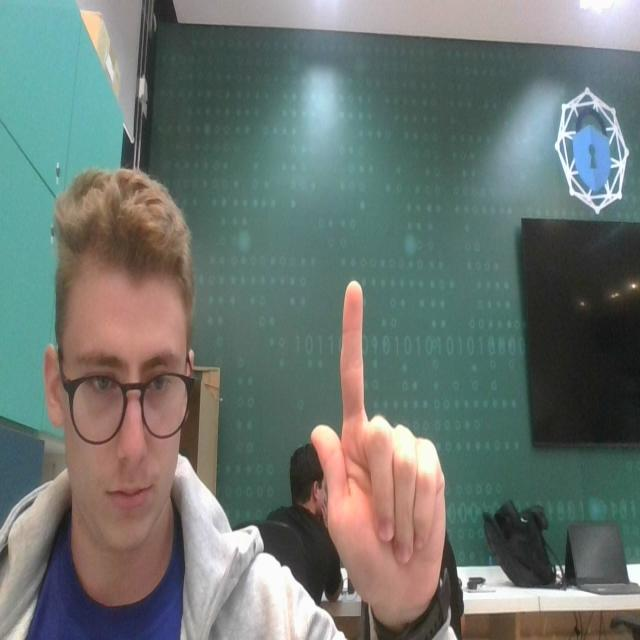G: (305, 272, 462, 640)
